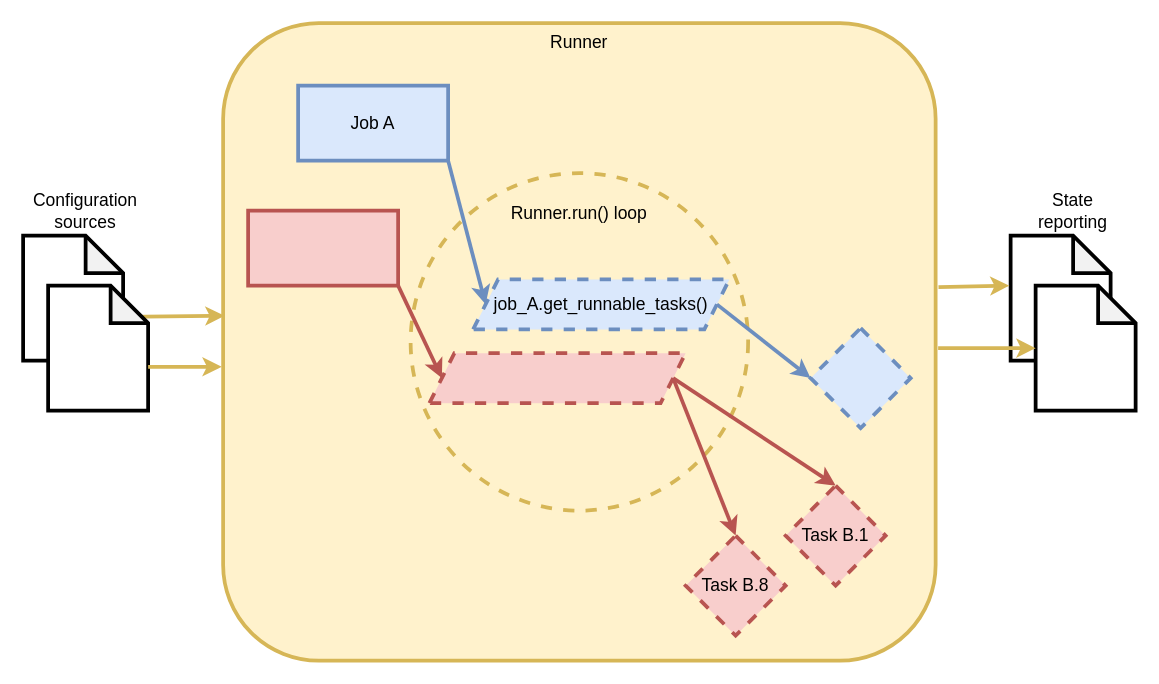
Image size: 1159x684. Some labels were removed from this diagram. Here are the shapes that lost their labels. From the top down, the centre of each, then its label:
the point at 322,247: Job B
the point at 557,377: job_B.get_runnable_tasks()
the point at 860,377: Task A.3
